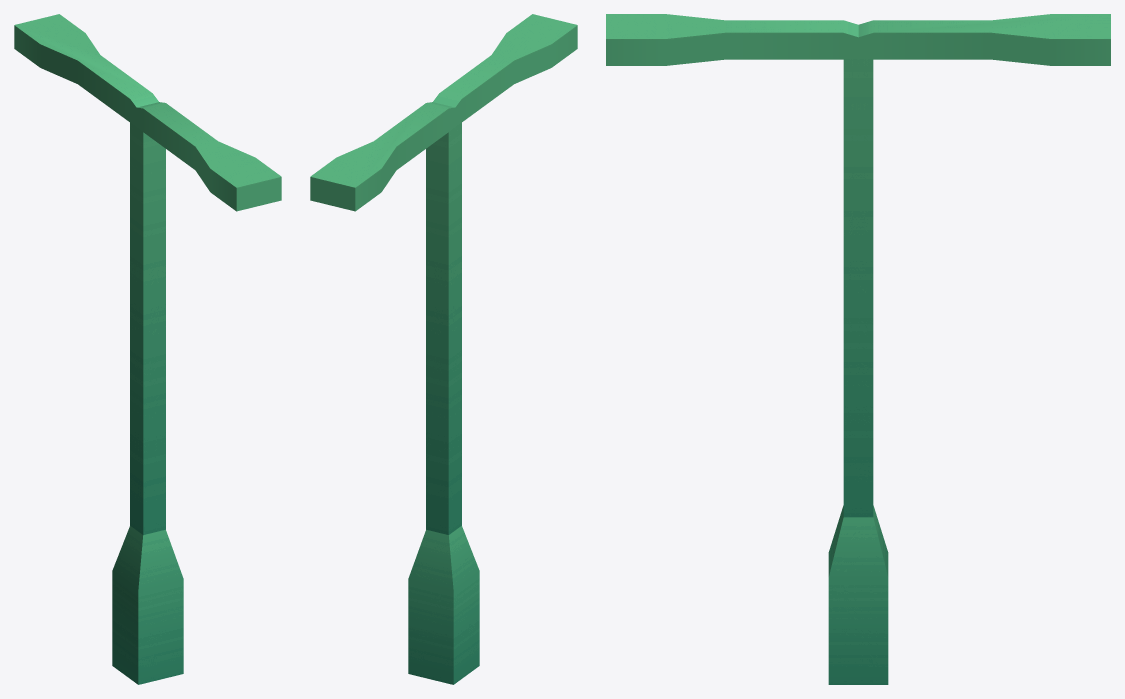
The model's file is light_square_double.glb.
3 views of the same model, side by side, from view 1: azimuth 30°, elevation 25°; view 2: azimuth 150°, elevation 25°; view 3: azimuth 270°, elevation 25° (orthographic). The views are drawn at different scales.
Visible parts, largest first — view 1: light-square-double; view 2: light-square-double; view 3: light-square-double.
Boxes of the visible parts, left/top/right/bottom form: light-square-double: left=14, top=14, right=281, bottom=684; light-square-double: left=310, top=14, right=577, bottom=684; light-square-double: left=606, top=14, right=1110, bottom=684.
Size of the model in its own units: 0.05 by 0.6 by 0.425.
1 material, 1 textured.
